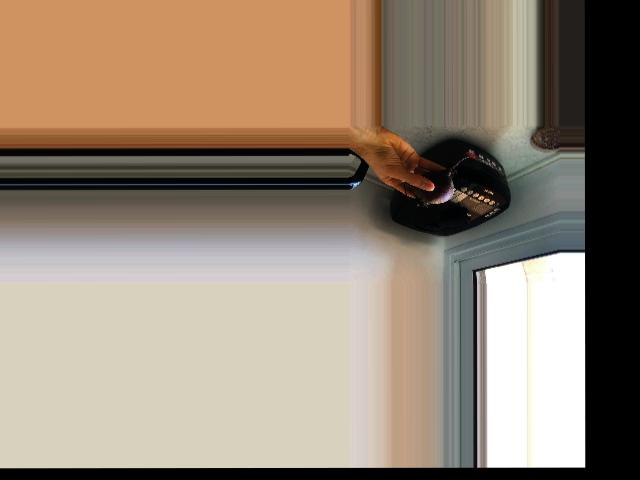beet: (405, 155, 469, 206)
